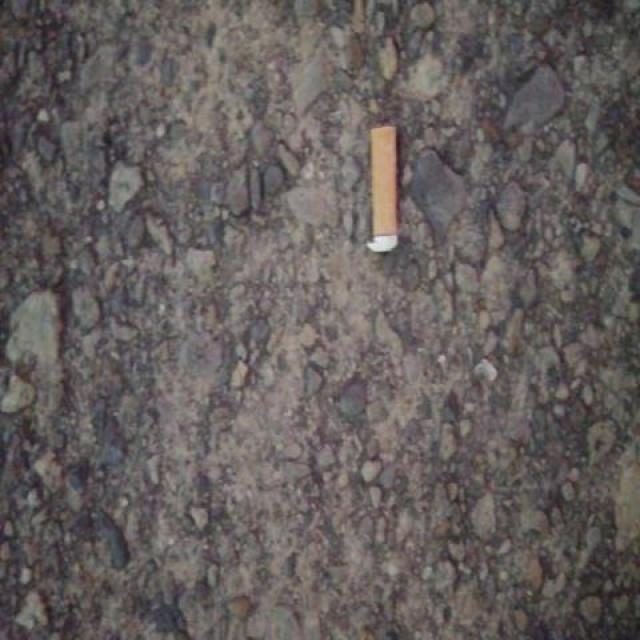non-organic waste: (362, 120, 402, 260)
